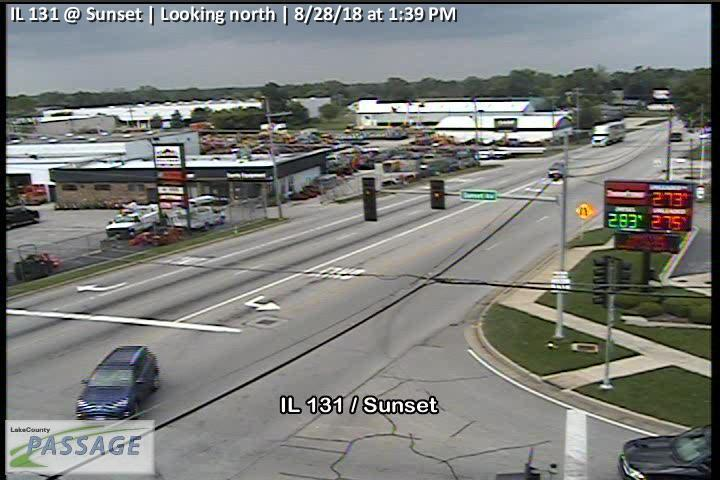SUV: (72, 344, 159, 428)
Sedan: (173, 205, 225, 230)
Truck: (590, 120, 626, 146)
